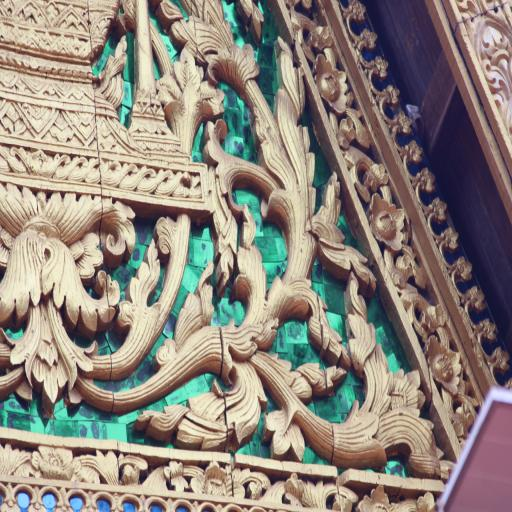hoa: (310, 54, 348, 112), (369, 192, 405, 250), (427, 339, 464, 391), (193, 463, 233, 499), (352, 485, 398, 512), (37, 446, 72, 478)
la: (168, 1, 336, 332), (0, 181, 117, 412), (115, 334, 339, 448), (334, 290, 441, 482), (99, 196, 187, 378), (331, 101, 385, 202), (232, 463, 338, 511), (394, 246, 444, 342), (121, 454, 193, 498), (73, 446, 119, 487), (0, 446, 35, 480)
